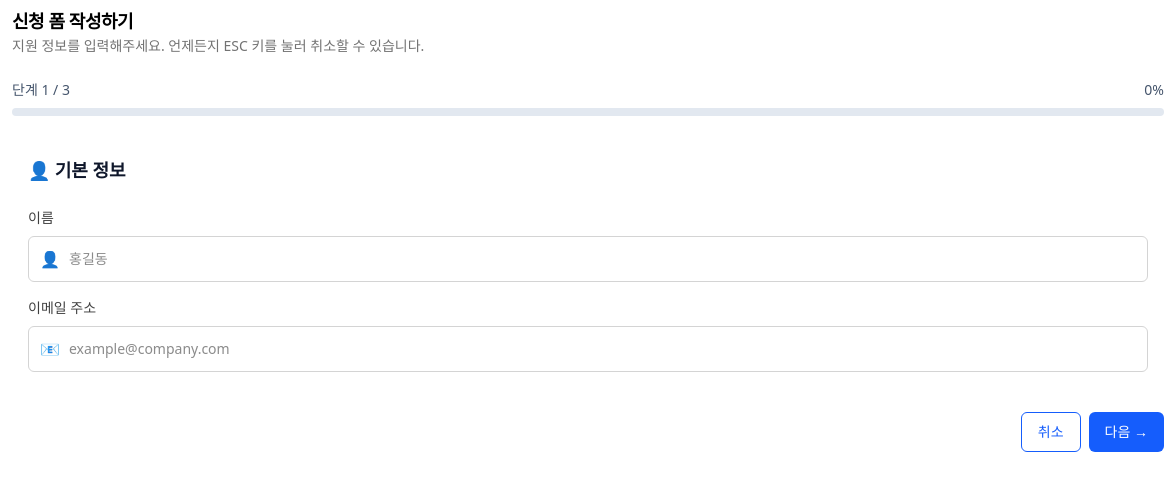
it: ContactForm › validates required fields in step 1
This screenshot has width=1176, height=493.
Note: Try to proceed without filling required fields
What coordinates should you click on to do the following:
click the button "다음 →"
I would click on:
 (1126, 432)
Its box is [1089,412,1164,452].
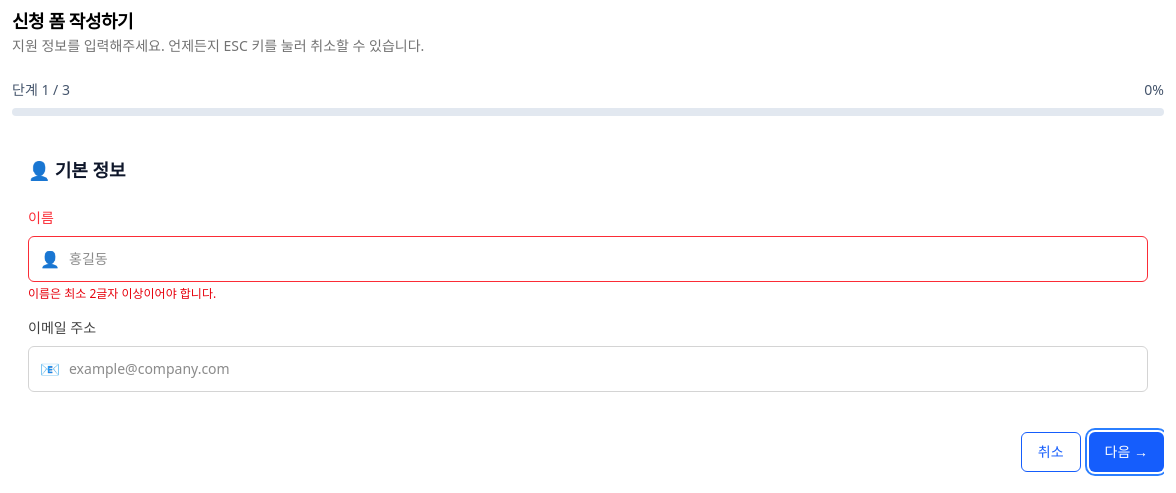
Now the text "이름은 최소 2글자 이상이어야 합니다." is shown 2 times
